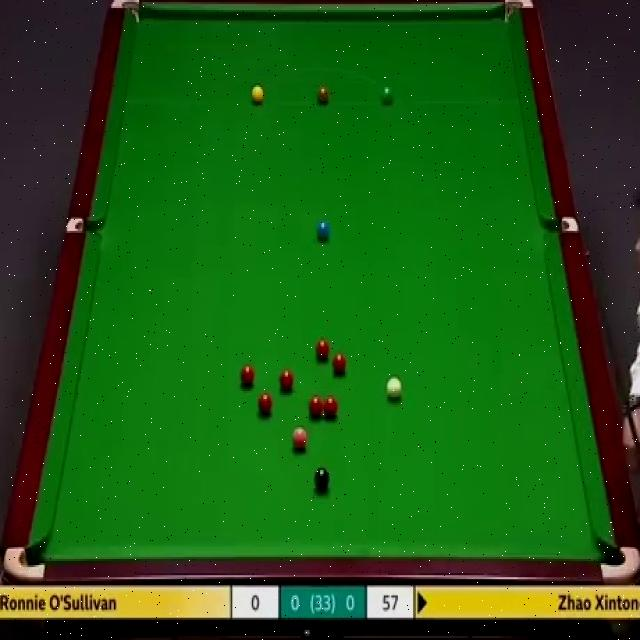black-ball: (313, 466, 331, 494)
blue-ball: (316, 220, 331, 241)
brown-ball: (316, 84, 330, 105)
green-ball: (380, 85, 395, 106)
pink-ball: (290, 426, 308, 451)
red-ball: (331, 350, 348, 378), (322, 395, 339, 421), (258, 392, 274, 418), (308, 394, 324, 420), (279, 368, 294, 393), (315, 336, 329, 362), (240, 365, 254, 387)
white-ball: (386, 376, 402, 402)
yellow-ball: (250, 83, 264, 104)
